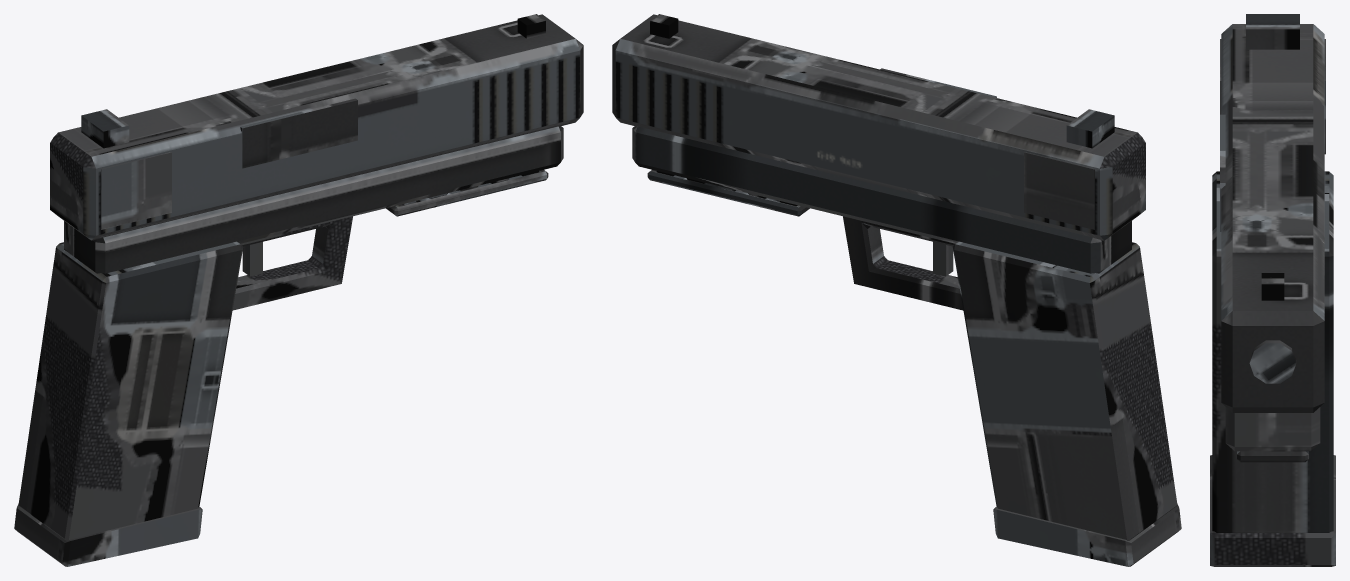
3 renders of one model, left to right at view 1: azimuth 30°, elevation 25°; view 2: azimuth 150°, elevation 25°; view 3: azimuth 270°, elevation 25°, orthographic. The views are drawn at different scales.
Visible parts, largest first — view 1: AT_G19; view 2: AT_G19; view 3: AT_G19.
Part boxes in pixels (left/top/right/bottom): AT_G19: left=14, top=14, right=583, bottom=566; AT_G19: left=612, top=14, right=1181, bottom=566; AT_G19: left=1210, top=14, right=1335, bottom=566.
Bounding box in the file's own units: 0.1664 × 0.124 × 0.028.
Materials: 1 (1 with a texture image).
